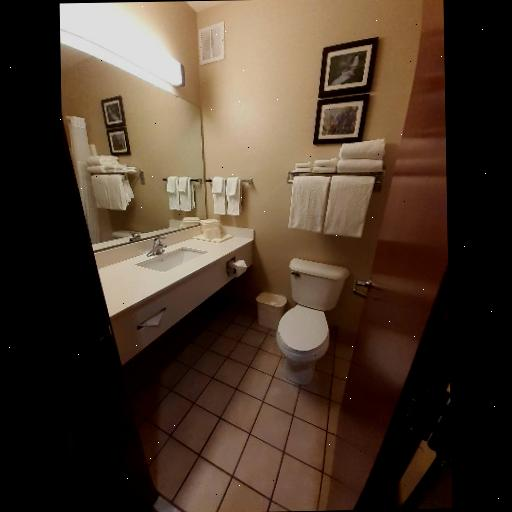clean mirror: (66, 52, 212, 238)
clean_floor: (121, 303, 355, 511)
clean_sink: (89, 213, 262, 368)
clean_toilet: (260, 253, 340, 388)
folded_towel: (284, 173, 379, 234), (337, 138, 387, 174), (211, 178, 247, 218), (288, 154, 342, 175)
